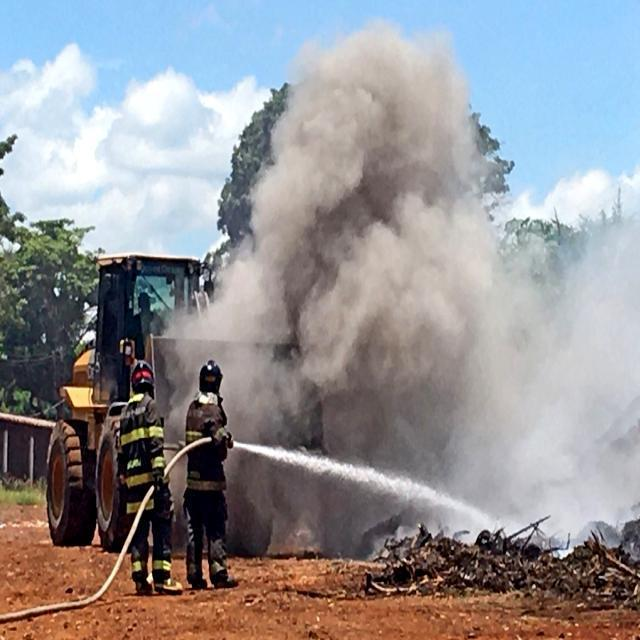Smoke: (184, 62, 640, 539)
